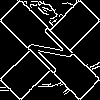N: (25, 25, 83, 83)
